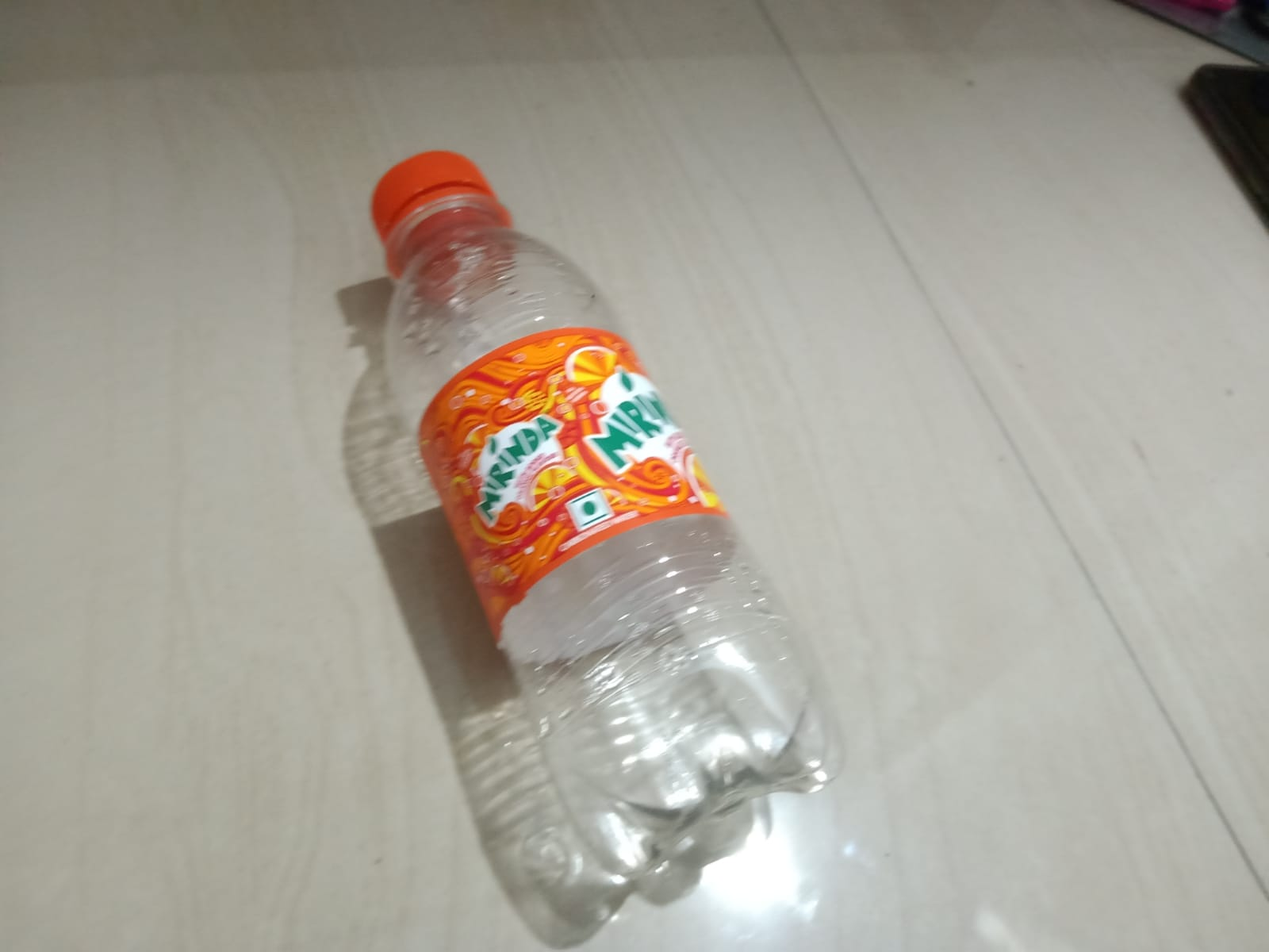plastic: (226, 163, 886, 911)
